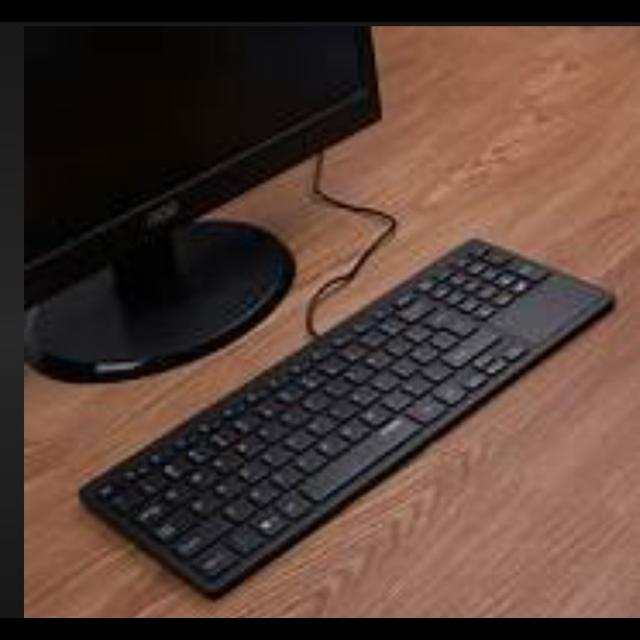Computer-Keyboard: (76, 240, 612, 599)
